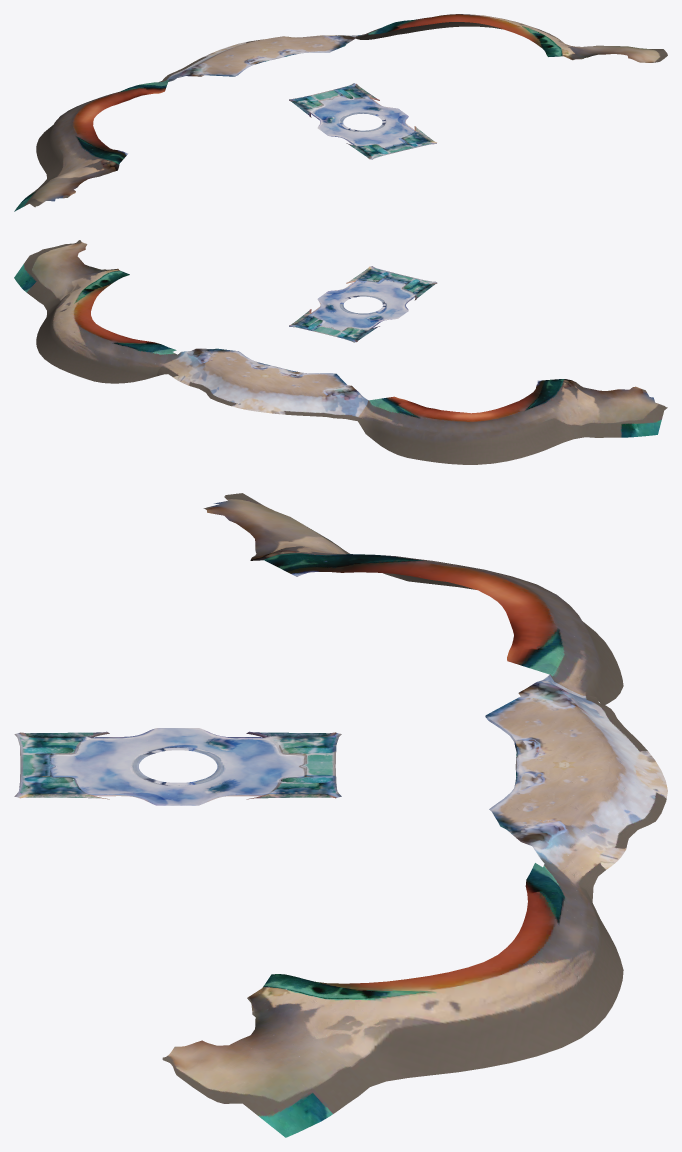
Rendered from pref_sm_beach_tech_hunt_bk_winter_Terrains_Part_03_lv2.fbx.
The picture shows the model from 3 angles, top to bottom: view 1: azimuth 30°, elevation 25°; view 2: azimuth 150°, elevation 25°; view 3: azimuth 270°, elevation 25°; orthographic projection. The views are drawn at different scales.
Visible parts, largest first — view 1: sm_beach_tech_hunt_bk_winter_Terrains_Part_03e_lv2, sm_beach_tech_hunt_bk_winter_Terrains_Part_03f_lv2, sm_beach_tech_hunt_bk_winter_Terrains_Part_03d_lv2, sm_beach_tech_hunt_bk_winter_Terrains_Part_03a_lv2, sm_beach_tech_hunt_bk_winter_Terrains_Part_03b_lv2; view 2: sm_beach_tech_hunt_bk_winter_Terrains_Part_03e_lv2, sm_beach_tech_hunt_bk_winter_Terrains_Part_03f_lv2, sm_beach_tech_hunt_bk_winter_Terrains_Part_03d_lv2, sm_beach_tech_hunt_bk_winter_Terrains_Part_03a_lv2, sm_beach_tech_hunt_bk_winter_Terrains_Part_03b_lv2; view 3: sm_beach_tech_hunt_bk_winter_Terrains_Part_03f_lv2, sm_beach_tech_hunt_bk_winter_Terrains_Part_03d_lv2, sm_beach_tech_hunt_bk_winter_Terrains_Part_03e_lv2, sm_beach_tech_hunt_bk_winter_Terrains_Part_03a_lv2, sm_beach_tech_hunt_bk_winter_Terrains_Part_03b_lv2.
Boxes of the visible parts, bbox=[...] form: sm_beach_tech_hunt_bk_winter_Terrains_Part_03e_lv2: bbox=[14, 79, 168, 211]; sm_beach_tech_hunt_bk_winter_Terrains_Part_03f_lv2: bbox=[359, 14, 667, 62]; sm_beach_tech_hunt_bk_winter_Terrains_Part_03d_lv2: bbox=[159, 35, 363, 82]; sm_beach_tech_hunt_bk_winter_Terrains_Part_03a_lv2: bbox=[311, 96, 414, 147]; sm_beach_tech_hunt_bk_winter_Terrains_Part_03b_lv2: bbox=[289, 83, 436, 159]; sm_beach_tech_hunt_bk_winter_Terrains_Part_03e_lv2: bbox=[358, 379, 667, 464]; sm_beach_tech_hunt_bk_winter_Terrains_Part_03f_lv2: bbox=[14, 240, 176, 383]; sm_beach_tech_hunt_bk_winter_Terrains_Part_03d_lv2: bbox=[156, 348, 368, 421]; sm_beach_tech_hunt_bk_winter_Terrains_Part_03a_lv2: bbox=[311, 279, 414, 330]; sm_beach_tech_hunt_bk_winter_Terrains_Part_03b_lv2: bbox=[289, 266, 437, 342]; sm_beach_tech_hunt_bk_winter_Terrains_Part_03f_lv2: bbox=[162, 863, 623, 1137]; sm_beach_tech_hunt_bk_winter_Terrains_Part_03d_lv2: bbox=[485, 675, 667, 901]; sm_beach_tech_hunt_bk_winter_Terrains_Part_03e_lv2: bbox=[203, 493, 623, 704]; sm_beach_tech_hunt_bk_winter_Terrains_Part_03a_lv2: bbox=[52, 728, 303, 805]; sm_beach_tech_hunt_bk_winter_Terrains_Part_03b_lv2: bbox=[14, 732, 341, 798].
Bounding box in the file's own units: 194 × 9.48 × 86.4.
